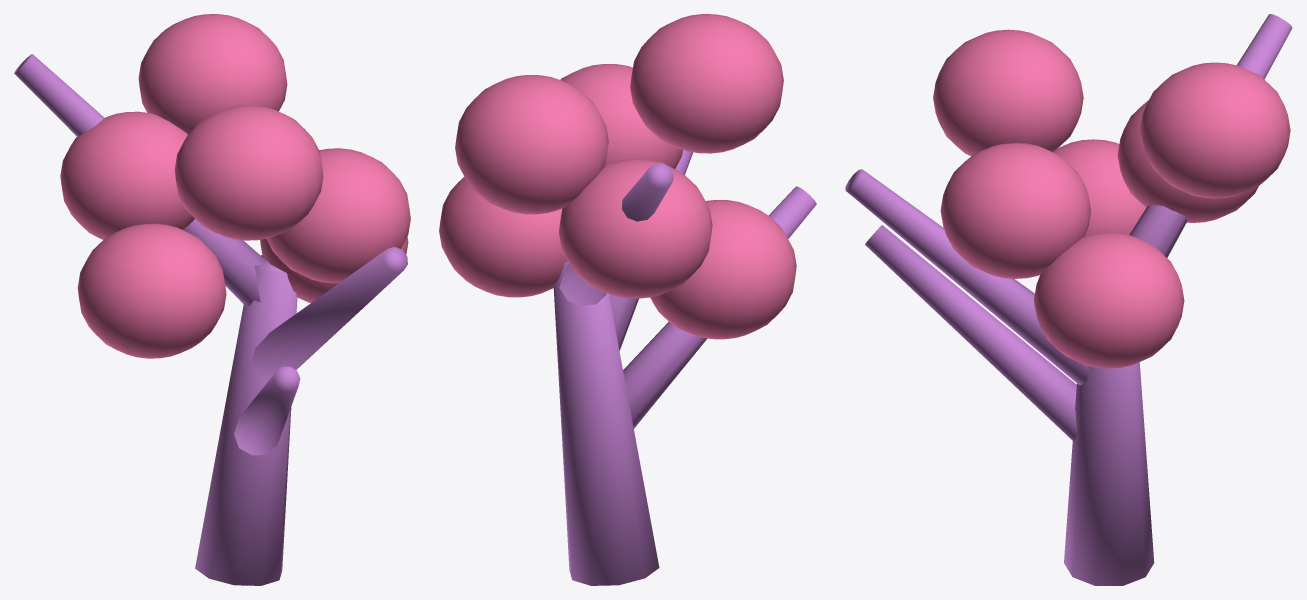
Rendered from underwater-reef-worlds-carnation-coral-65b96c6b__7009.glb.
3 views of the same model, side by side, from view 1: azimuth 30°, elevation 25°; view 2: azimuth 150°, elevation 25°; view 3: azimuth 270°, elevation 25° (orthographic). The views are drawn at different scales.
Visible parts, largest first — view 1: carnation-coral; view 2: carnation-coral; view 3: carnation-coral.
Boxes of the visible parts, box(x1,y1,x2,y2) form: carnation-coral: box(14, 14, 410, 585); carnation-coral: box(439, 14, 816, 585); carnation-coral: box(845, 14, 1292, 585).
Bounding box in the file's own units: 0.8375 × 1.27 × 1.01.
